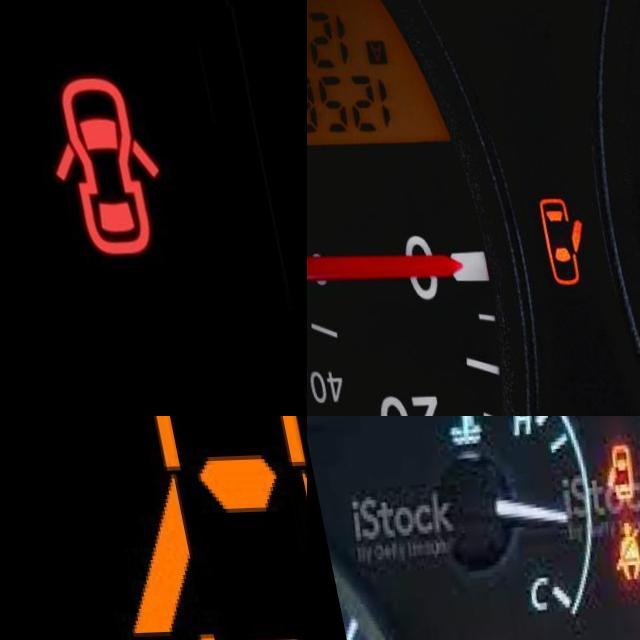Seat Belt: (597, 522, 637, 587)
